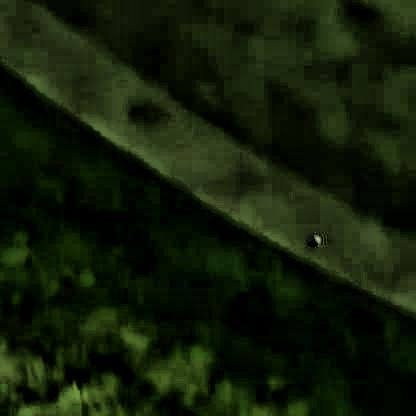golfball: (308, 235, 319, 245)
